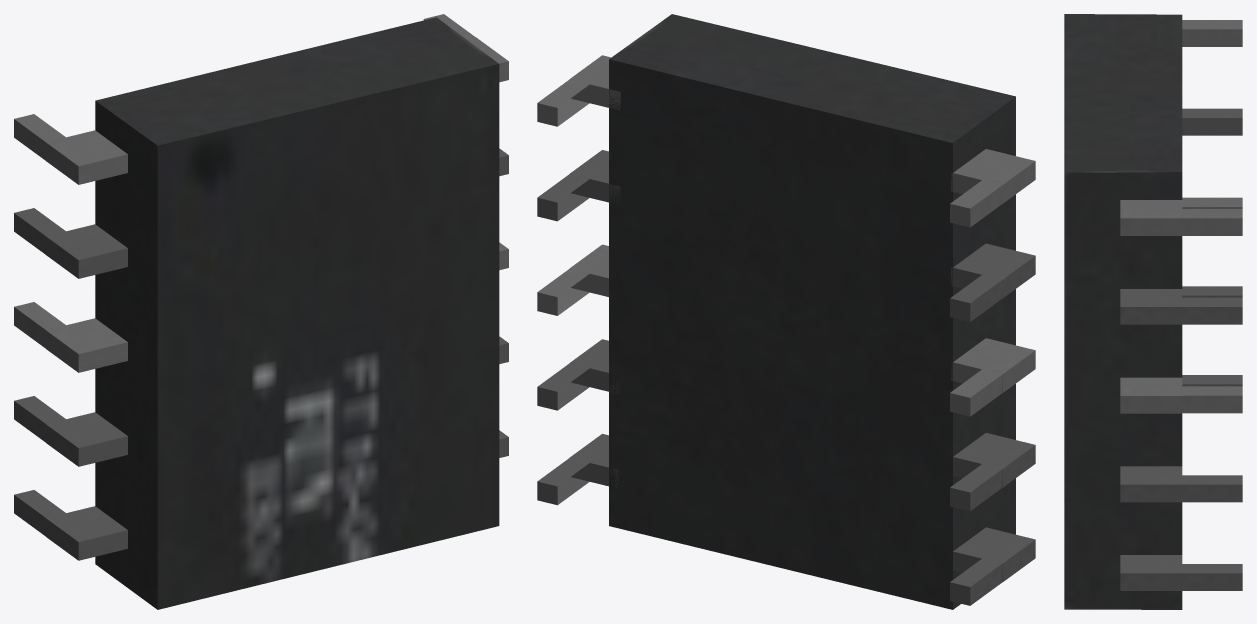
File: ram_chip_top.obj
3 views of the same model, side by side, from view 1: azimuth 30°, elevation 25°; view 2: azimuth 150°, elevation 25°; view 3: azimuth 270°, elevation 25° (orthographic). The views are drawn at different scales.
Visible parts, largest first — view 1: Object20; view 2: Object20; view 3: Object20.
Boxes of the visible parts, left/top/right/bottom form: Object20: left=14, top=14, right=508, bottom=609; Object20: left=537, top=14, right=1035, bottom=609; Object20: left=1064, top=14, right=1242, bottom=609.
Bounding box in the file's own units: 19.47 × 20.07 × 7.4.
1 material, 1 textured.
